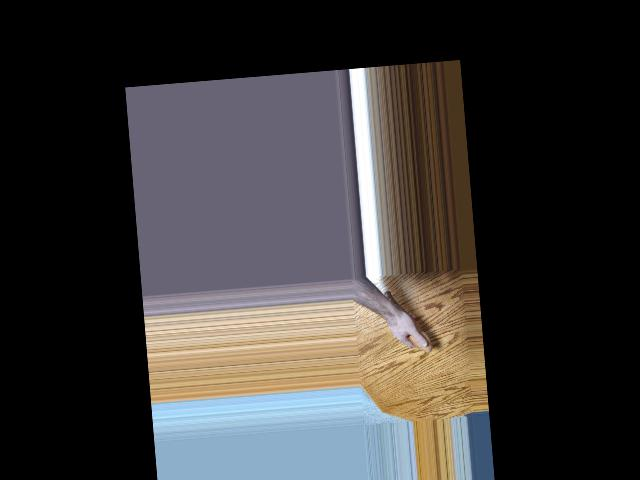sweet_potato: (380, 285, 432, 357)
